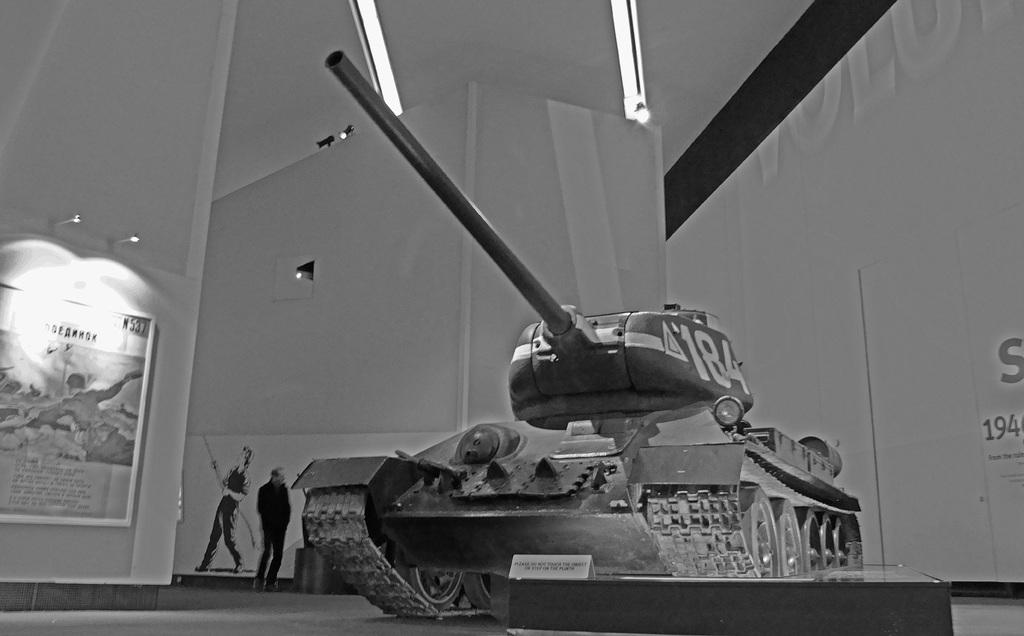Tank: (291, 45, 865, 624)
